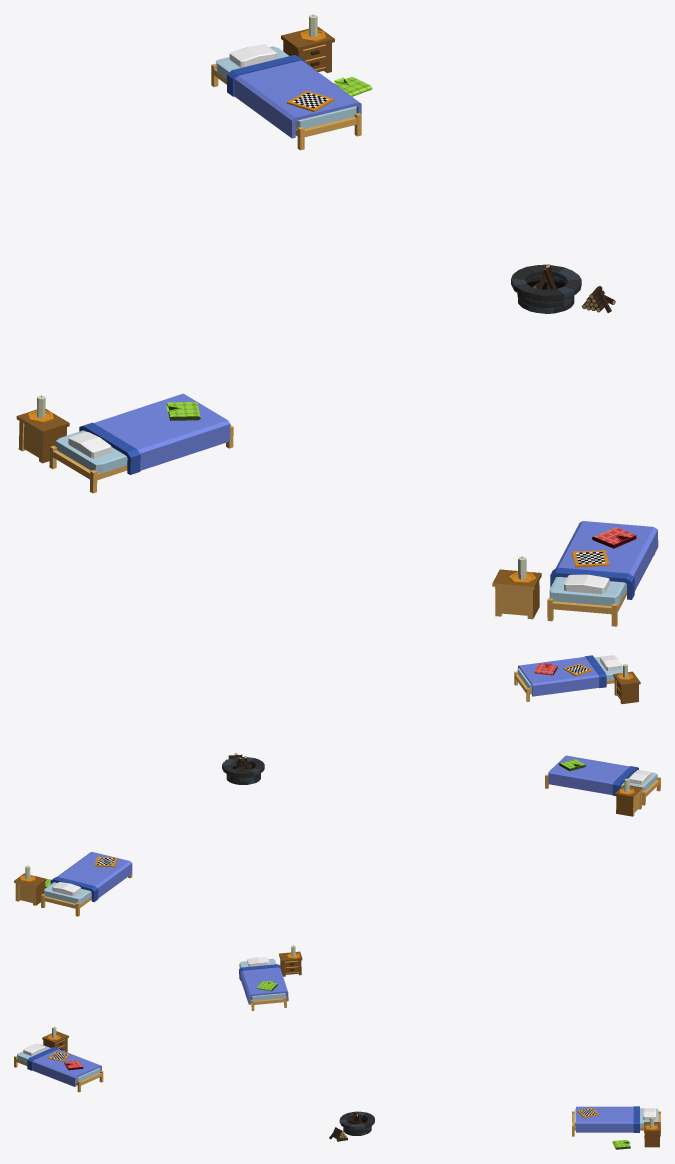
The model's file is Bellifer Fields Collidable.fbx.
The picture shows the model from 3 angles, top to bottom: view 1: azimuth 30°, elevation 25°; view 2: azimuth 150°, elevation 25°; view 3: azimuth 270°, elevation 25°; orthographic projection. The views are drawn at different scales.
Visible parts, largest first — view 1: Bed.001, Bed, Bed.002, Springhook Fire Pit, Drawer.002, Drawer.001, Drawer; view 2: Bed, Bed.002, Bed.001, Springhook Fire Pit, Drawer, Drawer.001, Drawer.002; view 3: Bed.002, Bed, Bed.001, Springhook Fire Pit, Drawer.001, Drawer, Drawer.002.
Part boxes in pixels (<box>): Bed.001: <box>49,393,233,493</box>; Bed: <box>211,44,361,150</box>; Bed.002: <box>547,521,658,626</box>; Springhook Fire Pit: <box>511,264,581,313</box>; Drawer.002: <box>492,569,541,619</box>; Drawer.001: <box>16,408,69,463</box>; Drawer: <box>281,27,334,72</box>; Bed: <box>41,852,132,916</box>; Bed.002: <box>514,655,622,701</box>; Bed.001: <box>545,755,660,805</box>; Springhook Fire Pit: <box>222,756,264,784</box>; Drawer: <box>14,873,46,905</box>; Drawer.001: <box>615,785,643,816</box>; Drawer.002: <box>613,671,640,703</box>; Bed.002: <box>14,1043,103,1092</box>; Bed: <box>572,1106,660,1136</box>; Bed.001: <box>239,957,288,1011</box>; Springhook Fire Pit: <box>339,1111,374,1135</box>; Drawer.001: <box>279,951,302,976</box>; Drawer: <box>644,1122,660,1147</box>; Drawer.002: <box>42,1031,68,1052</box>.
Size of the model in its own units: 156 by 22.33 by 261.
